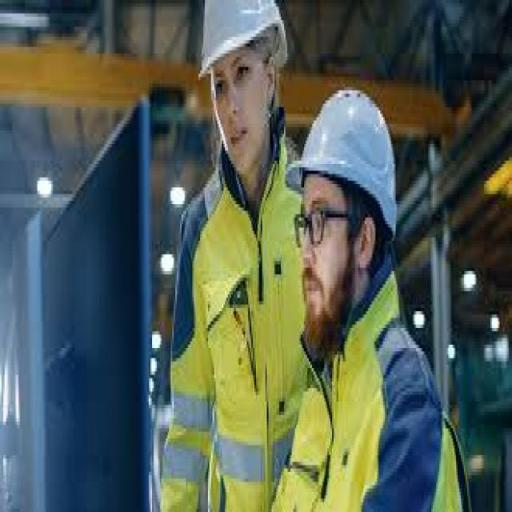helmet: (295, 80, 399, 234), (195, 0, 285, 80)
vest: (165, 160, 309, 506), (284, 291, 466, 512)
